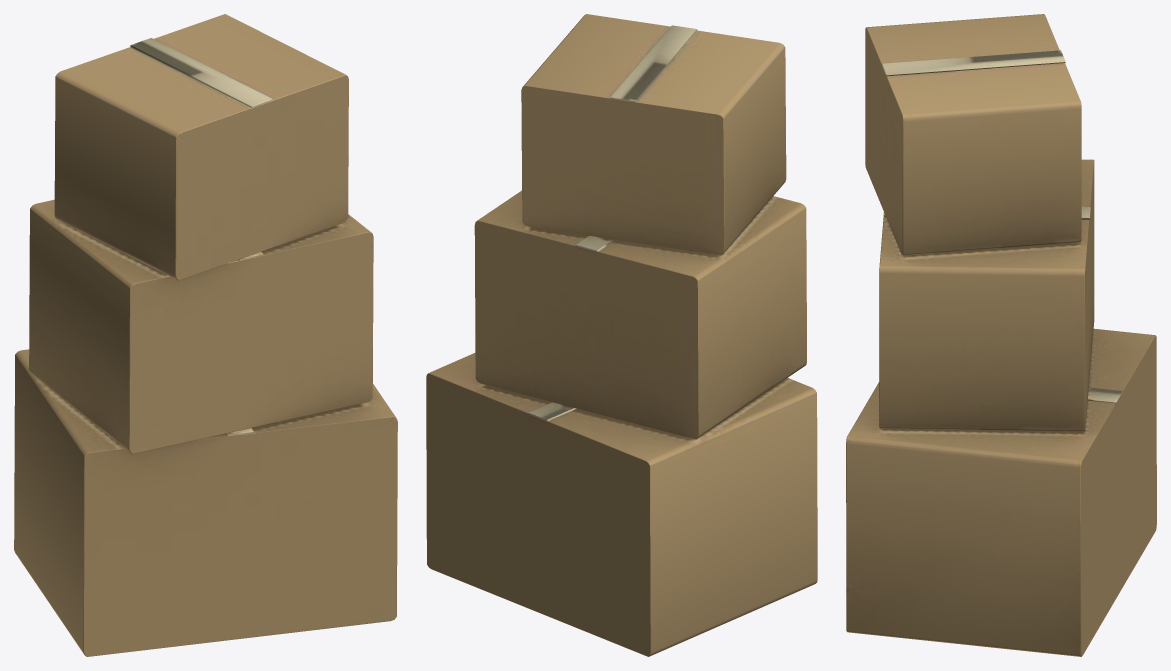
File: LV_cardboard_stack.glb
The picture shows the model from 3 angles, left to right: view 1: azimuth 30°, elevation 25°; view 2: azimuth 150°, elevation 25°; view 3: azimuth 270°, elevation 25°; orthographic projection. The views are drawn at different scales.
Parts seen in each view (by area): view 1: LV_cardboard_stack; view 2: LV_cardboard_stack; view 3: LV_cardboard_stack.
Boxes of the visible parts, bbox=[...] form: LV_cardboard_stack: bbox=[14, 14, 397, 656]; LV_cardboard_stack: bbox=[426, 14, 817, 656]; LV_cardboard_stack: bbox=[846, 14, 1156, 656].
Bounding box in the file's own units: 0.601 × 0.932 × 0.5135.
Materials: 1 (1 with a texture image).
